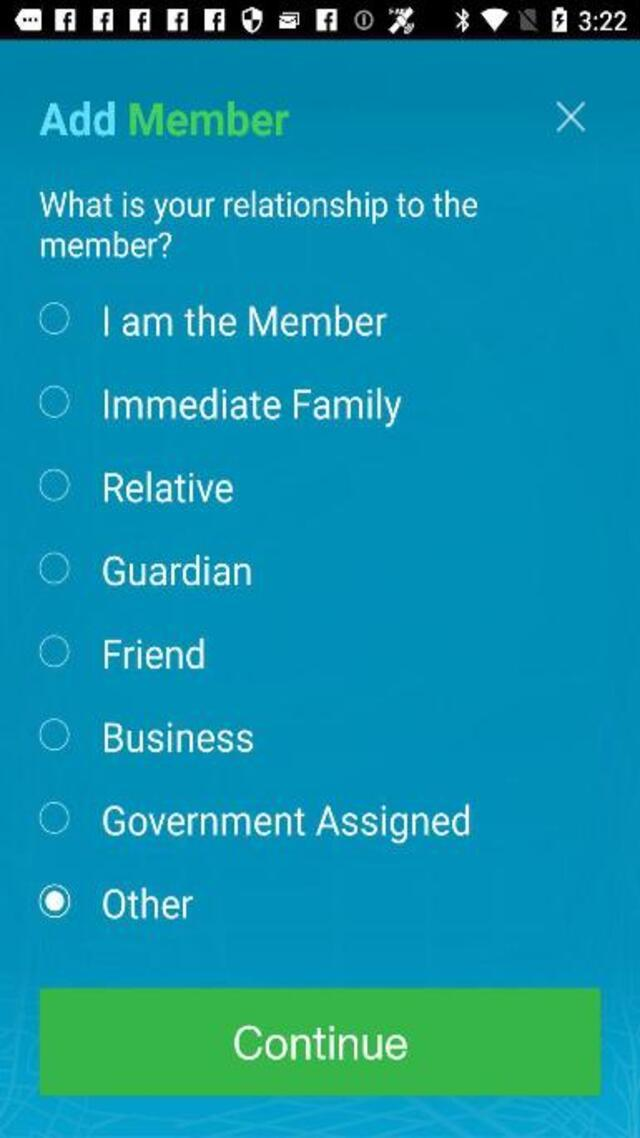CheckedTextView: (39, 802, 470, 845), (40, 385, 402, 428), (39, 302, 387, 336), (38, 551, 251, 587), (40, 718, 254, 752), (40, 468, 234, 502), (39, 634, 204, 670), (39, 884, 194, 920)
Icon: (556, 100, 588, 132)
Text: (36, 188, 484, 227), (102, 803, 470, 844), (104, 386, 402, 428), (38, 98, 288, 140), (105, 304, 388, 336), (226, 1022, 414, 1067), (103, 720, 253, 752), (102, 555, 250, 587), (36, 230, 176, 262), (103, 471, 233, 503), (104, 636, 205, 668), (103, 888, 193, 920)
TextButton: (38, 988, 600, 1096)
